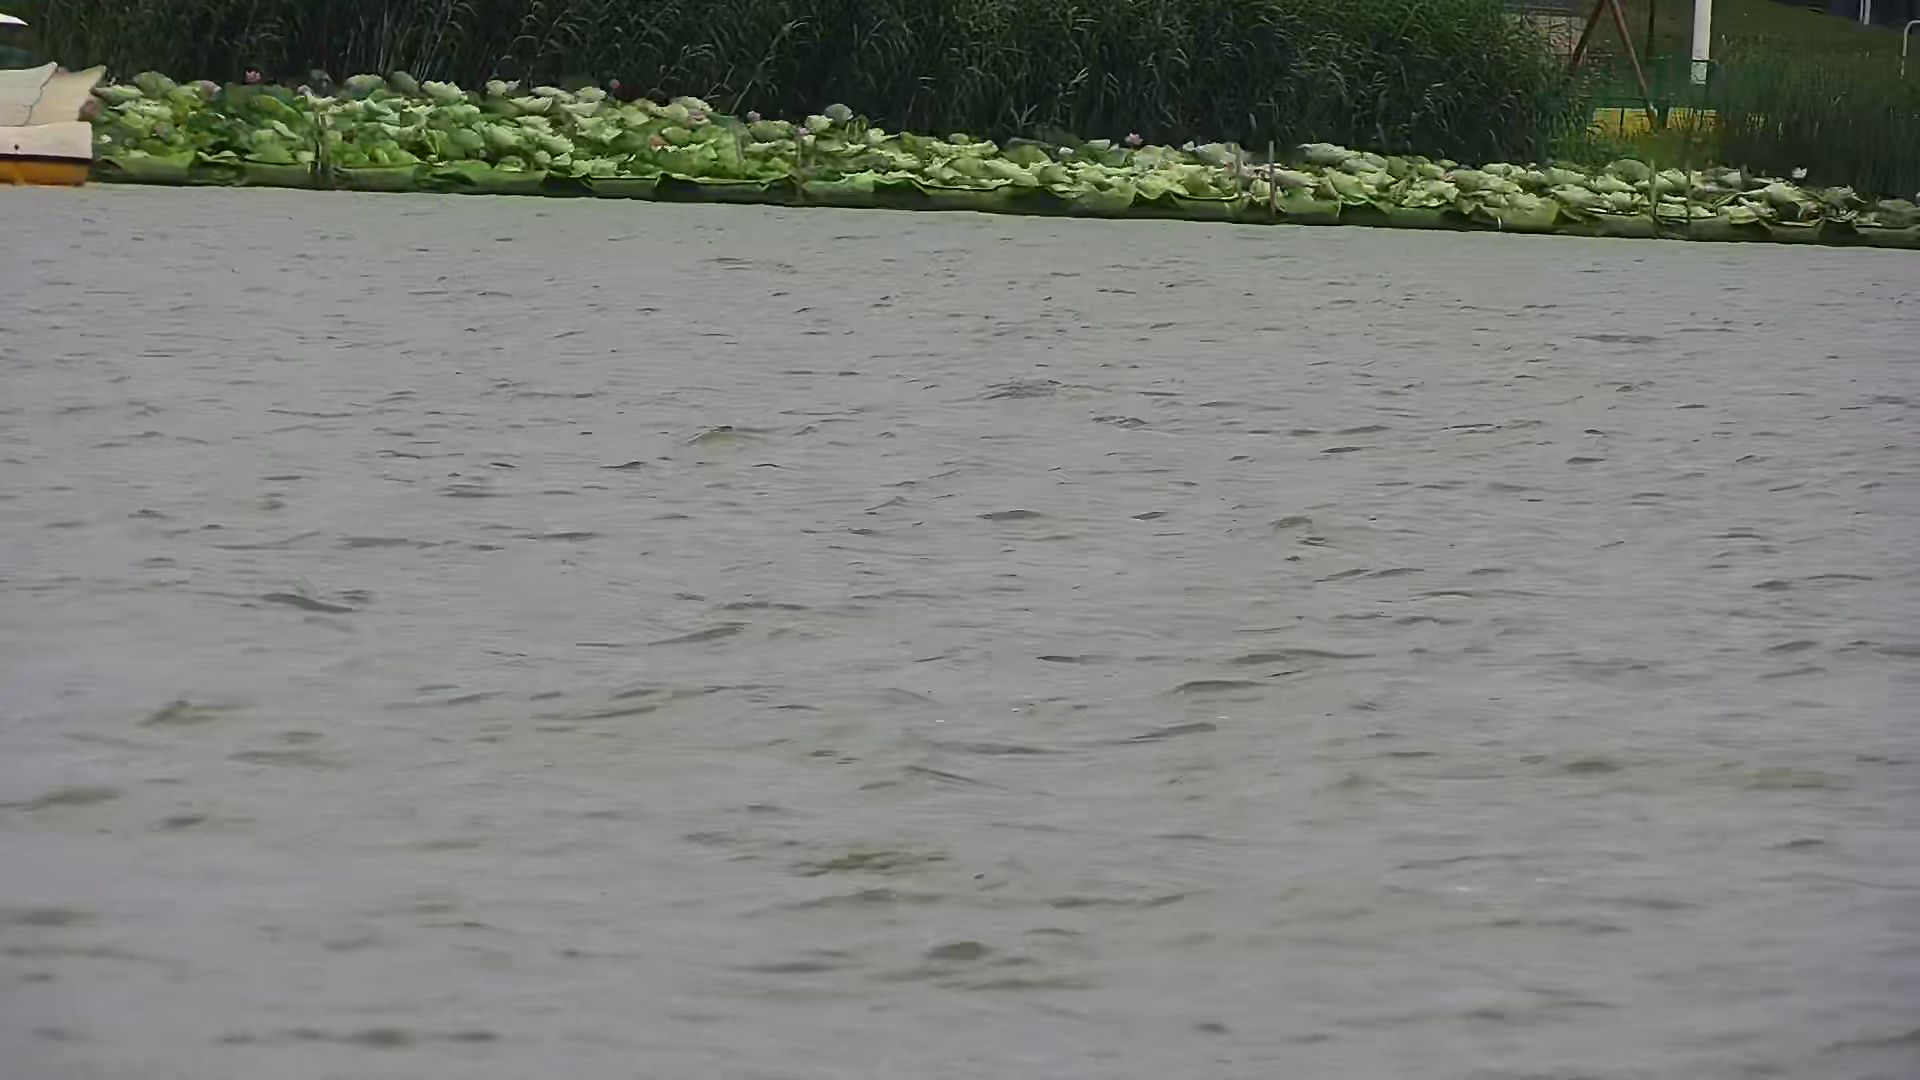grass: (108, 65, 1898, 253)
